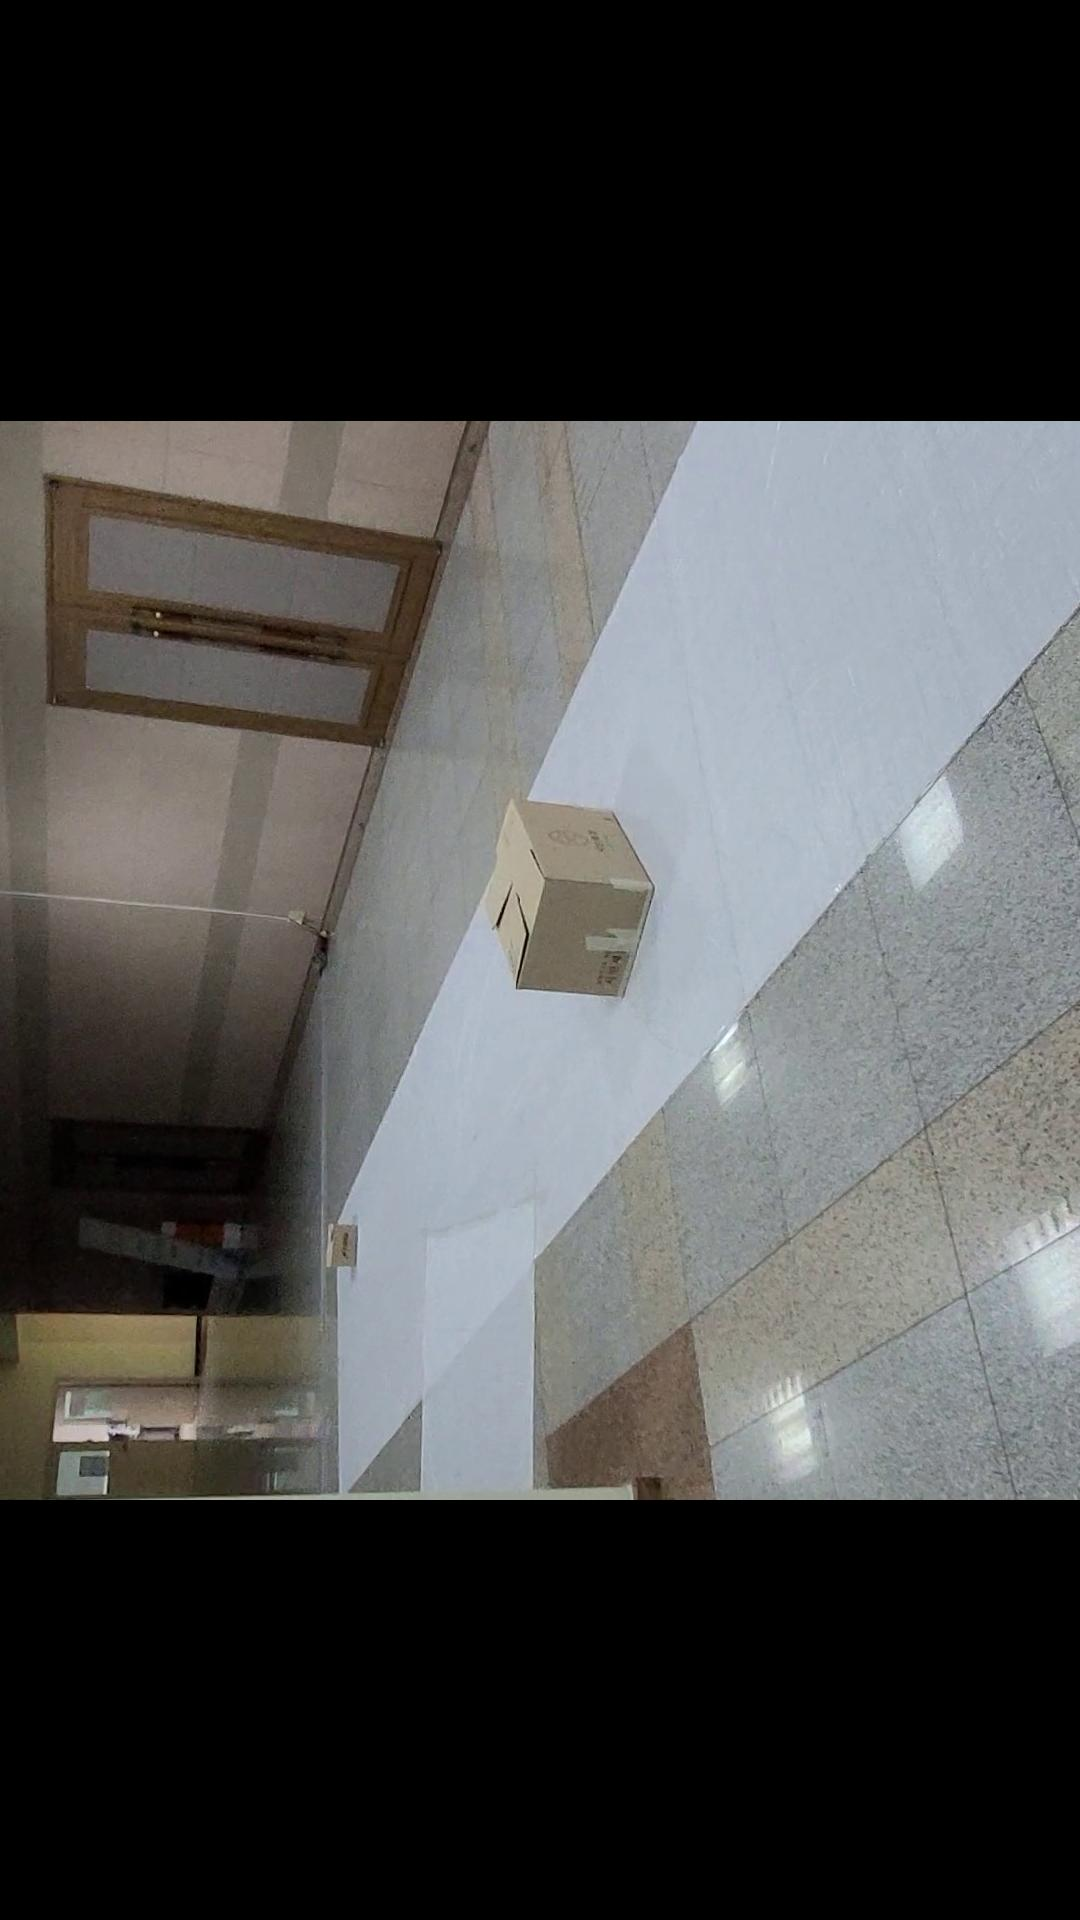Box: (477, 790, 658, 1009), (318, 1218, 363, 1267)
